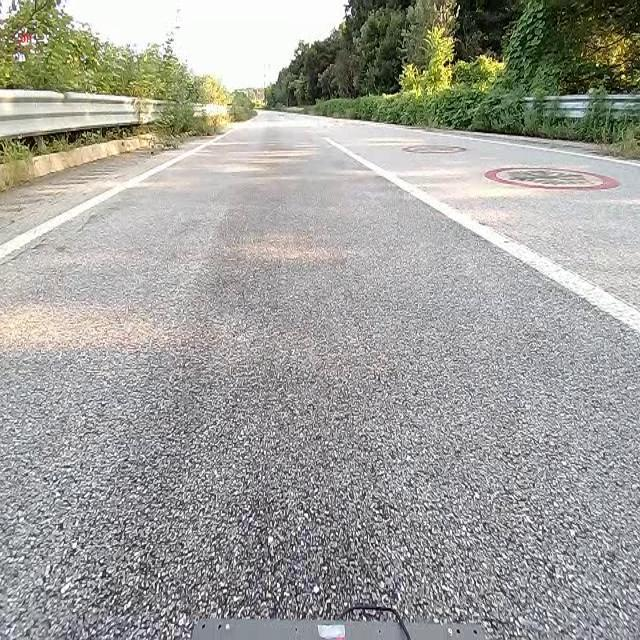Lane: (320, 130, 640, 345), (326, 139, 639, 336), (0, 120, 227, 262), (0, 138, 217, 264)
